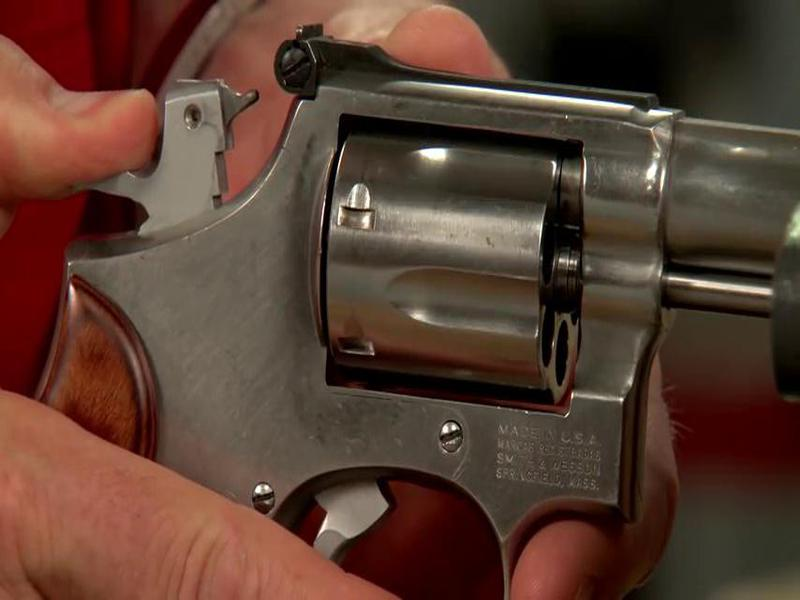Revolver: (32, 32, 800, 576)
